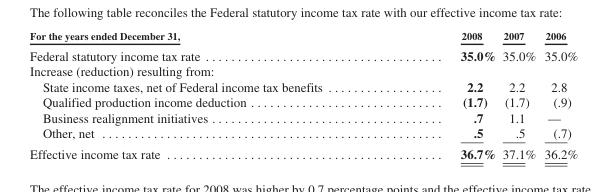table: (28, 29, 577, 160)
table column: (28, 29, 390, 160), (390, 29, 498, 160), (498, 29, 539, 160), (539, 29, 577, 160)
table column header: (28, 29, 577, 44)
table projected row header: (28, 62, 577, 78)
table row: (28, 44, 577, 62), (28, 124, 577, 142), (28, 142, 577, 160), (28, 62, 577, 78), (28, 93, 577, 109), (28, 29, 577, 44), (28, 78, 577, 93), (28, 109, 577, 124)
